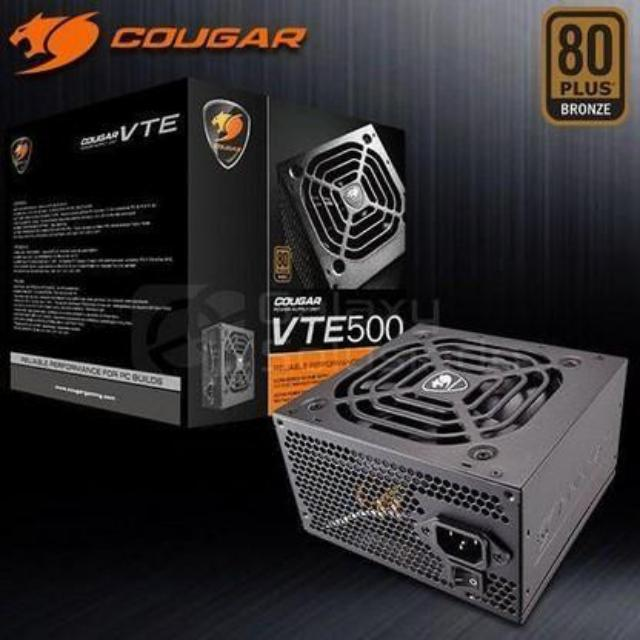PSU: (266, 318, 631, 630)
